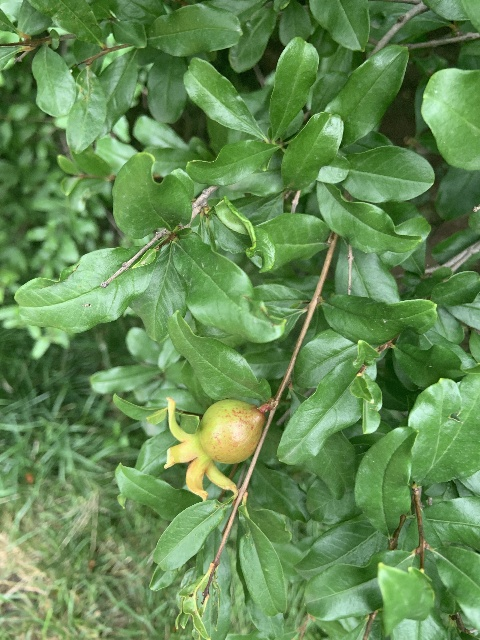early-fruit: (163, 397, 264, 501)
